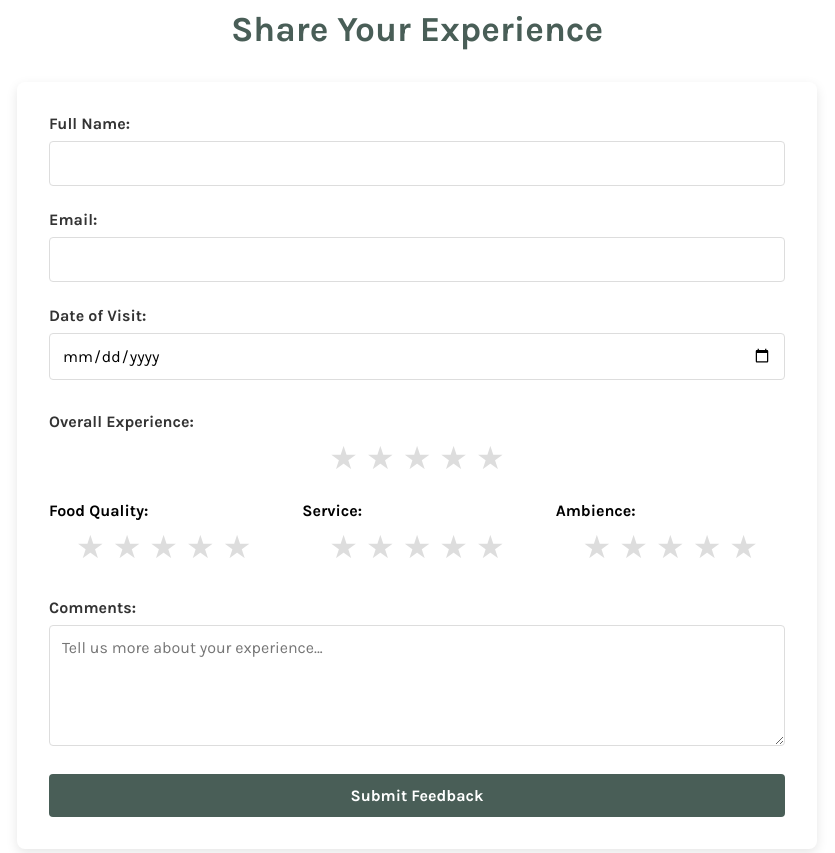
Test: FeedbackPage Component › displays error messages when form is submitted with empty fields
The width and height of the screenshot is (835, 853).
// Submit without filling required fields
Click the button "Submit Feedback" at (417,795), box [49, 774, 785, 817]
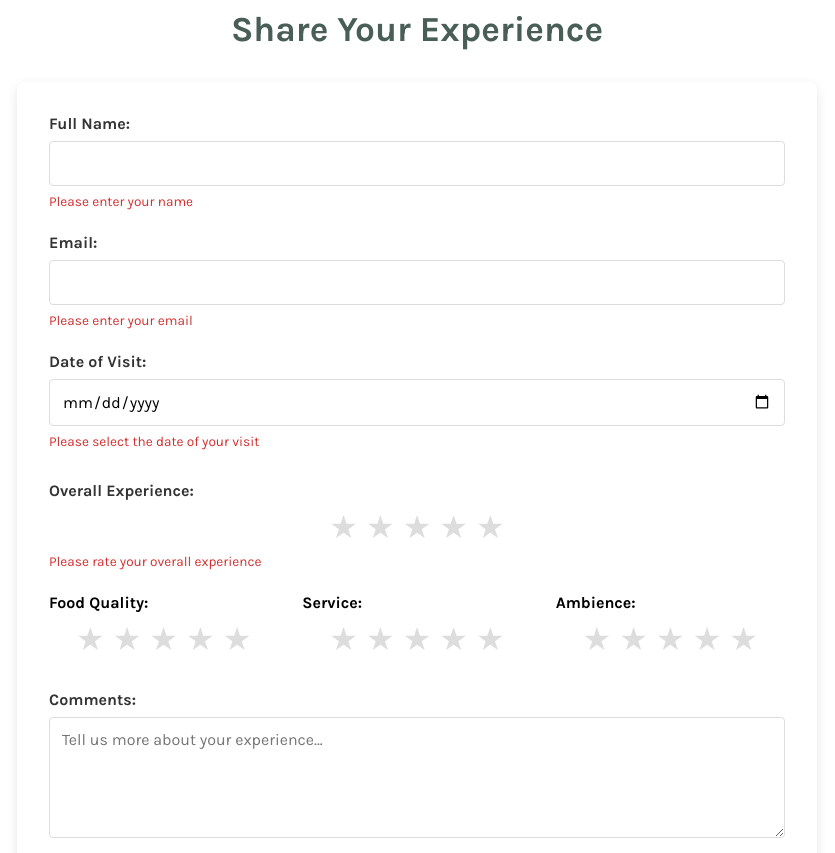
Check: the text "Please enter your name" is shown, box [49, 194, 193, 209]
Check: the text "Please enter your email" is shown, box [49, 313, 193, 328]
Check: the text "Please select the date of your visit" is shown, box [49, 434, 259, 449]
